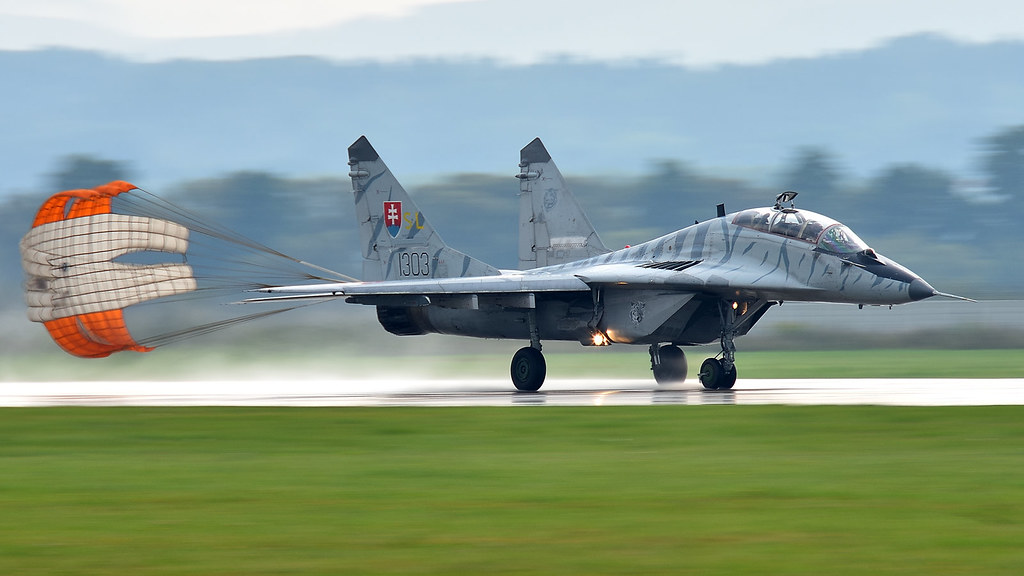Mig-29: (281, 102, 947, 410)
